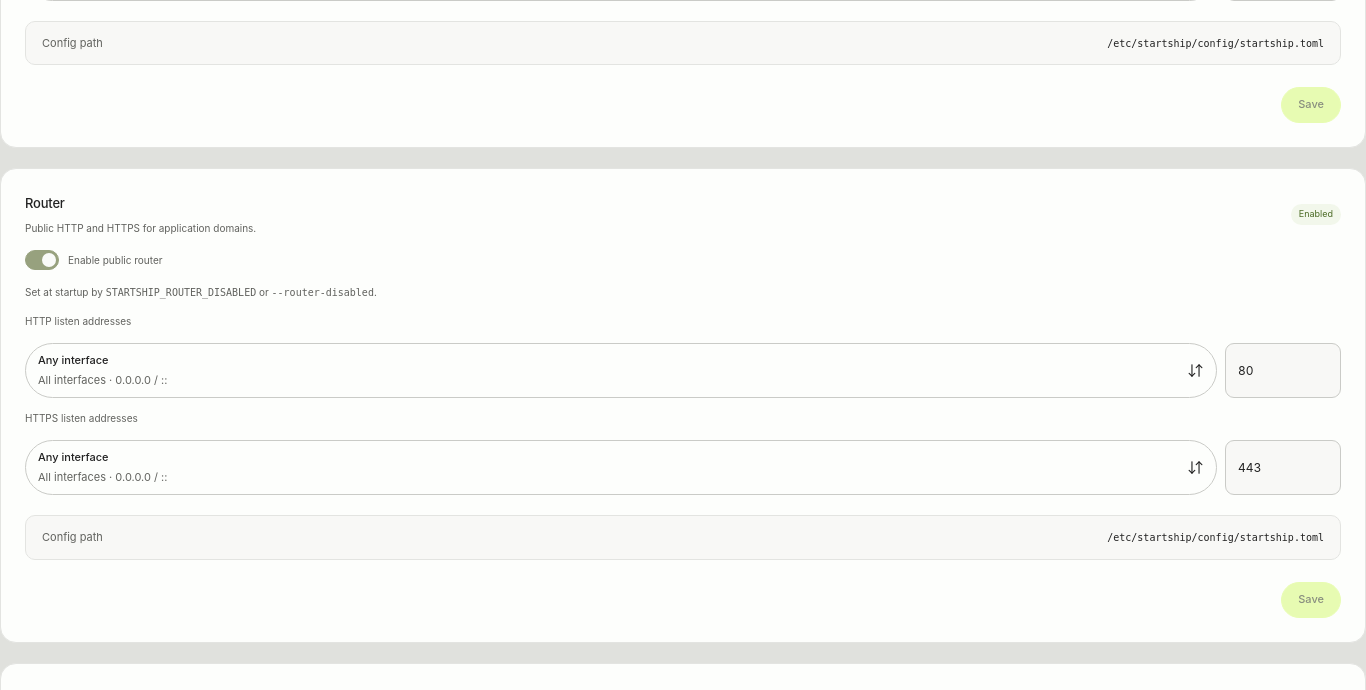
node router settings › keeps listeners editable when the router toggle is locked and displays the API error: router port 8888 collides with the dashboard
This screenshot has width=1366, height=690.
(page scrolled)
expect the switch is disabled: met, box left=25, top=250, right=59, bottom=270
expect the field named "HTTPS listen addresses port" is enabled: met, box left=1225, top=440, right=1341, bottom=496
In the field named "HTTP listen addresses port": (1283, 371) left=1225, top=343, right=1341, bottom=398, type "8888"
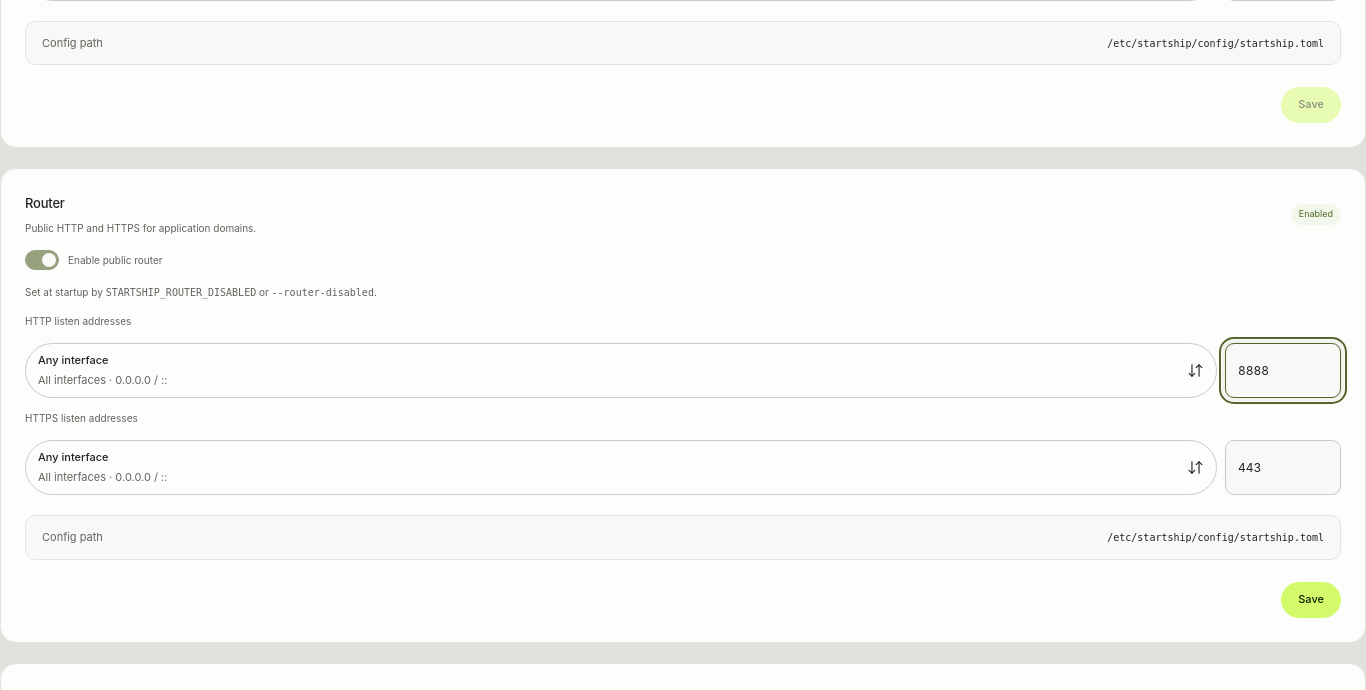
Click the 2nd button "Save": (1311, 600) left=1281, top=582, right=1341, bottom=618
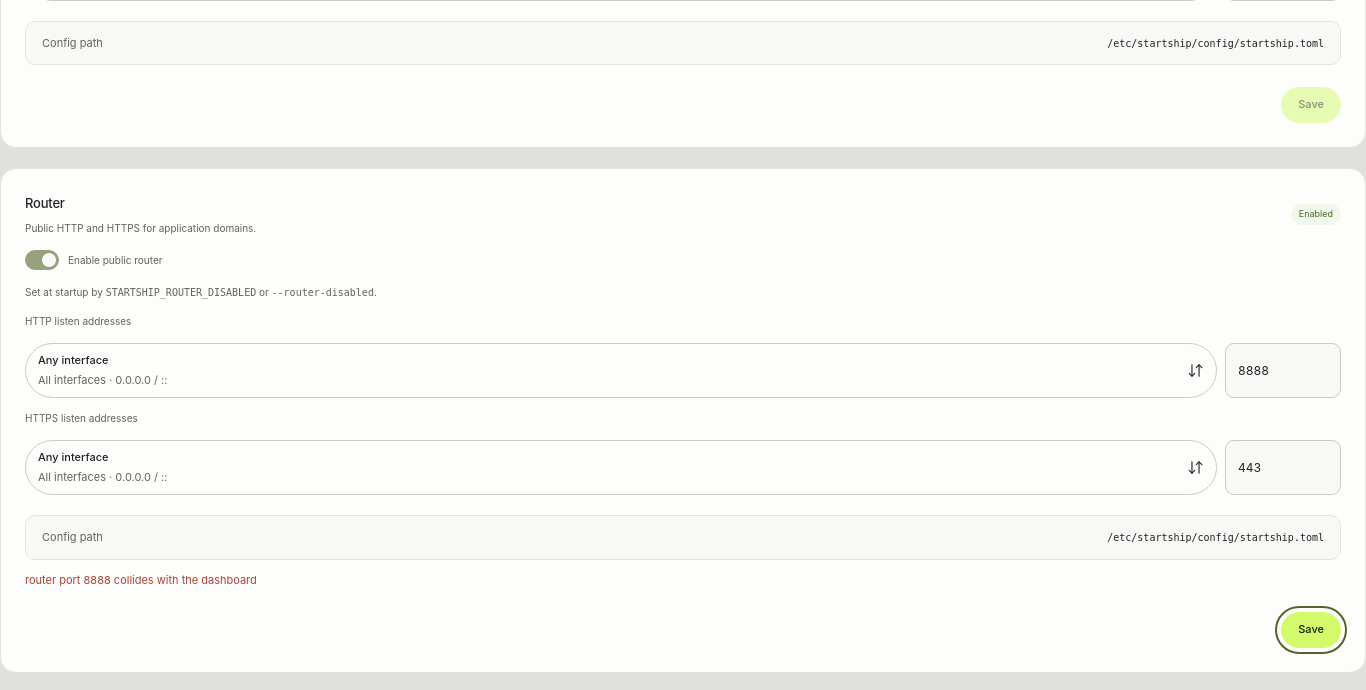
expect the message "router port 8888 collides with the dashboard" is shown: met, box left=25, top=573, right=257, bottom=587
